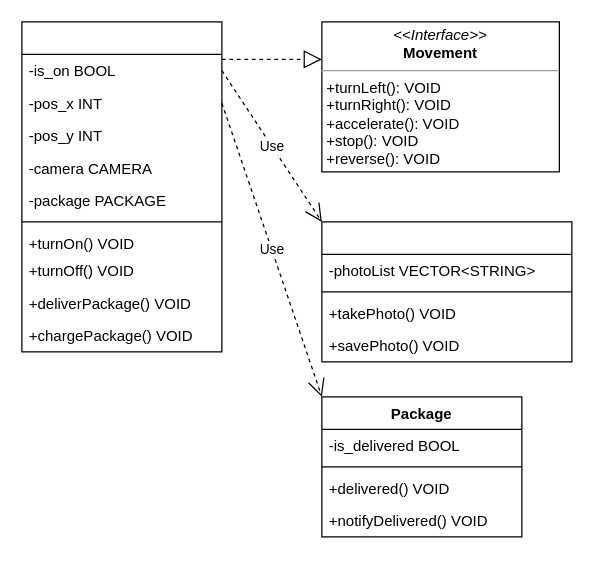
The diagram is 594 pixels wide and 563 high, and some of its shapes have lost their labels. The box of each missing label's shape, as (x1, y1, x2, y2) in pixels:
Camera: (321, 221, 572, 362)
Drone: (21, 21, 222, 352)
